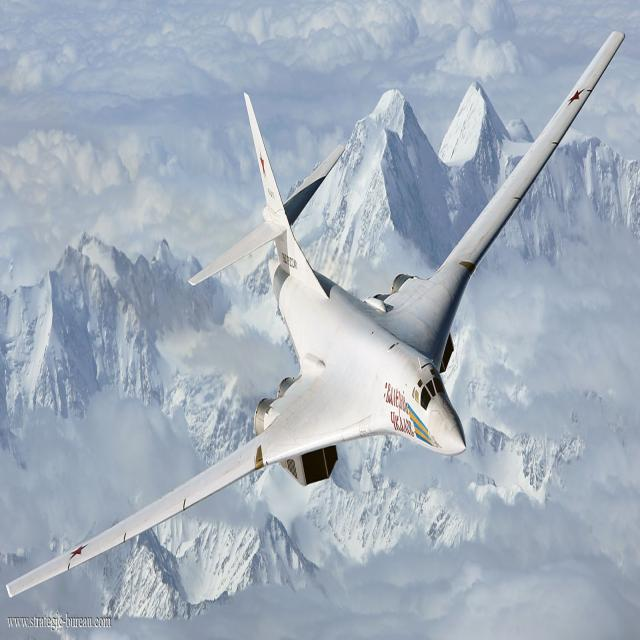Tu160: (11, 23, 640, 604)
